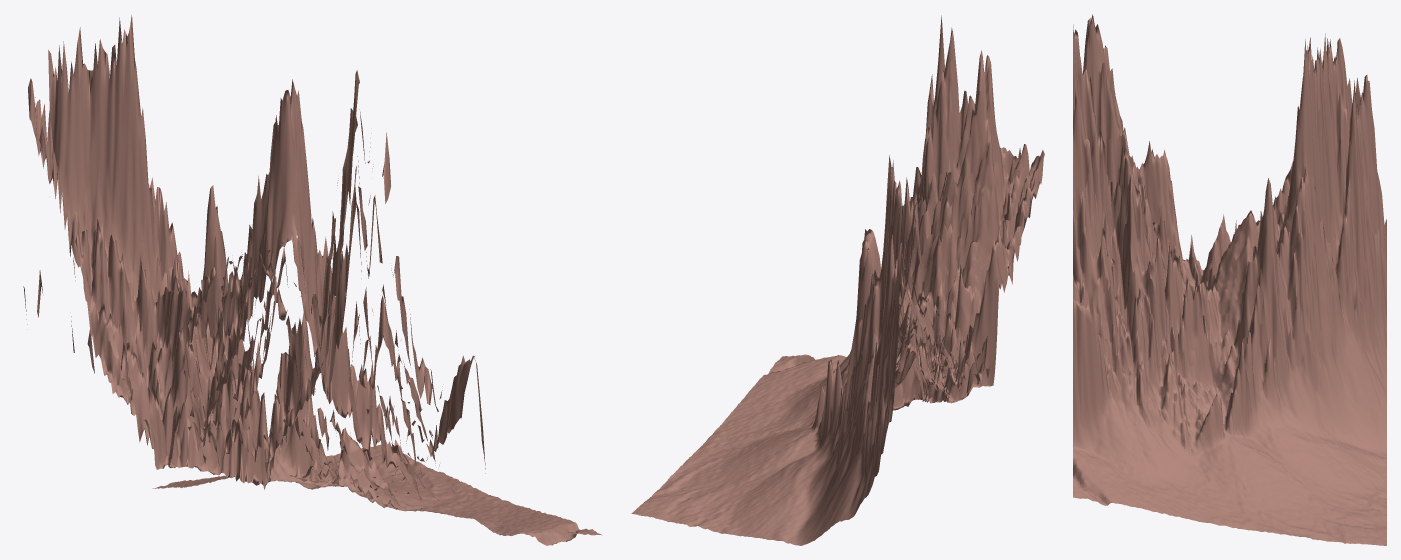
The model's file is zhangye-danxia-hi.glb.
The picture shows the model from 3 angles, left to right: view 1: azimuth 30°, elevation 25°; view 2: azimuth 150°, elevation 25°; view 3: azimuth 270°, elevation 25°; orthographic projection. The views are drawn at different scales.
Bounding box in the file's own units: 3200 × 4987 × 3200.
